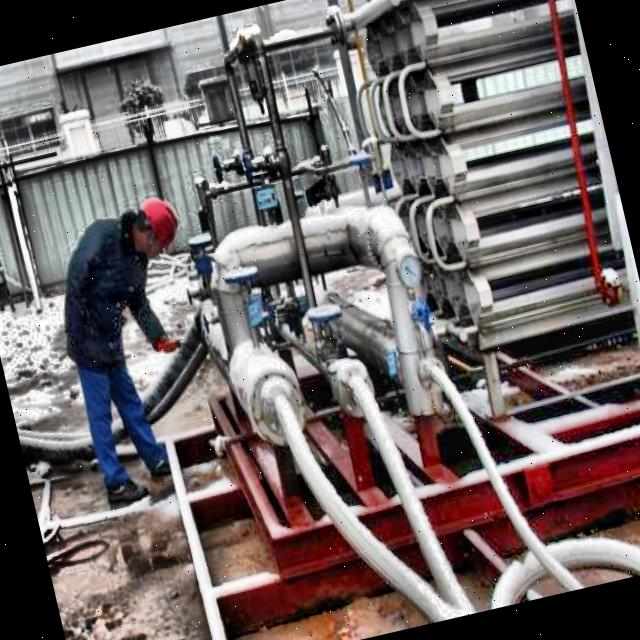helmet: (126, 191, 191, 255)
